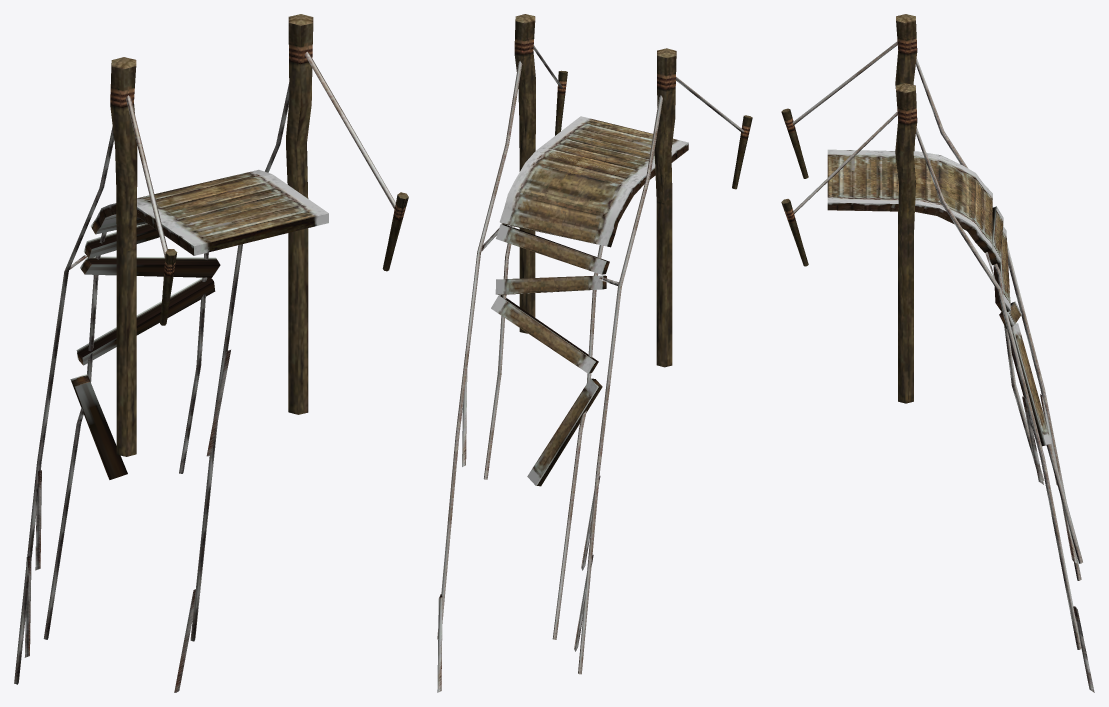
Rendered from general_obj_suspension bridge03.fbx.
The picture shows the model from 3 angles, left to right: view 1: azimuth 30°, elevation 25°; view 2: azimuth 150°, elevation 25°; view 3: azimuth 270°, elevation 25°; orthographic projection. The views are drawn at different scales.
Visible parts, largest first — view 1: general_obj_suspension bridge01; view 2: general_obj_suspension bridge01; view 3: general_obj_suspension bridge01.
Boxes of the visible parts, x1,y1,x2,y2 form: general_obj_suspension bridge01: [14, 14, 408, 692]; general_obj_suspension bridge01: [437, 14, 752, 692]; general_obj_suspension bridge01: [781, 14, 1094, 692].
Size of the model in its own units: 5.63 by 17.01 by 7.91.
